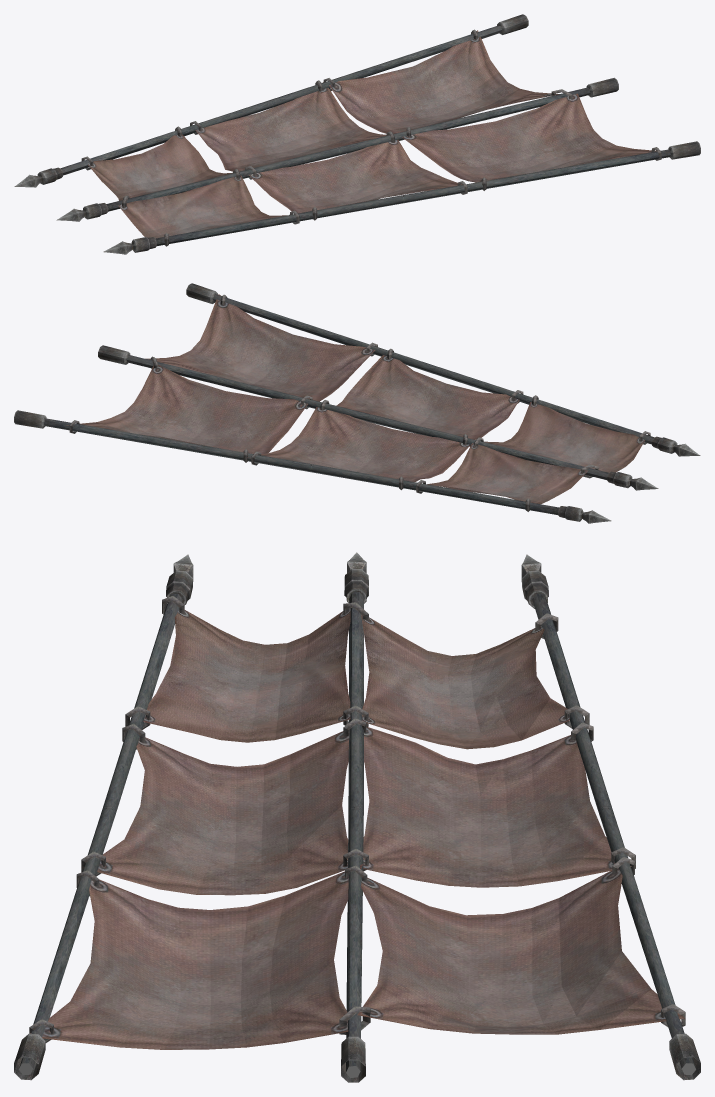
Rendered from bg_lut_lucastle_arenaflag01_sm_msj.FBX.
The picture shows the model from 3 angles, top to bottom: view 1: azimuth 30°, elevation 25°; view 2: azimuth 150°, elevation 25°; view 3: azimuth 270°, elevation 25°; orthographic projection. The views are drawn at different scales.
Parts seen in each view (by area): view 1: bg_lut_lucastle_arenaflag01_sm_msj; view 2: bg_lut_lucastle_arenaflag01_sm_msj; view 3: bg_lut_lucastle_arenaflag01_sm_msj.
Part boxes in pixels (<box>): bg_lut_lucastle_arenaflag01_sm_msj: <box>14,14,700,254</box>; bg_lut_lucastle_arenaflag01_sm_msj: <box>14,283,700,523</box>; bg_lut_lucastle_arenaflag01_sm_msj: <box>14,552,700,1082</box>.
Bounding box in the file's own units: 679 × 39.62 × 379.
